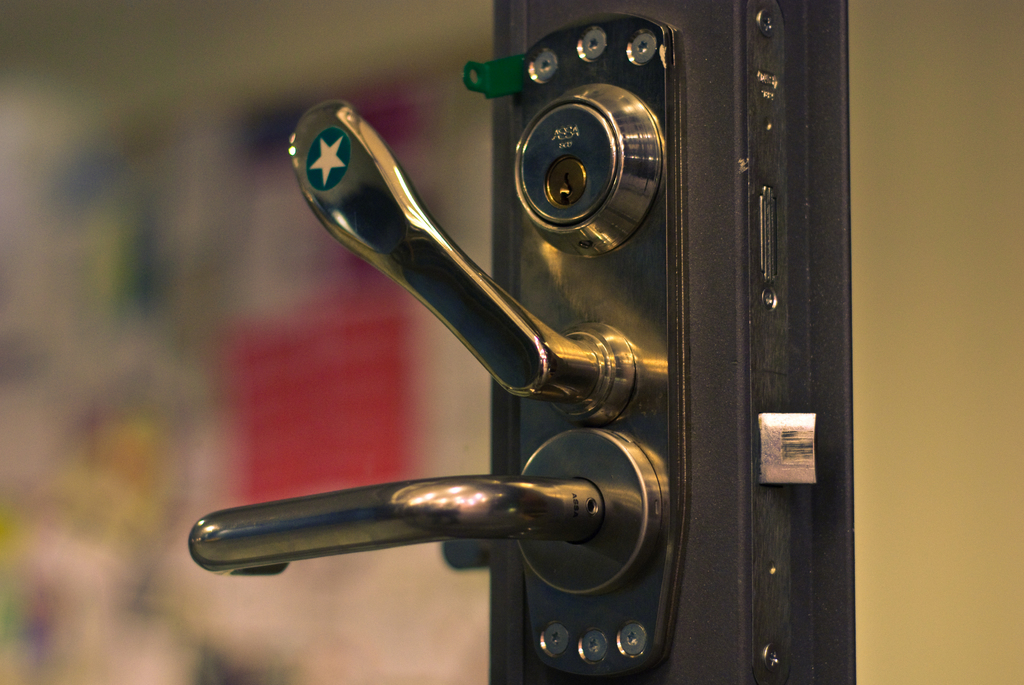door: (2, 20, 734, 685)
handle: (280, 80, 555, 402), (168, 434, 594, 588)
